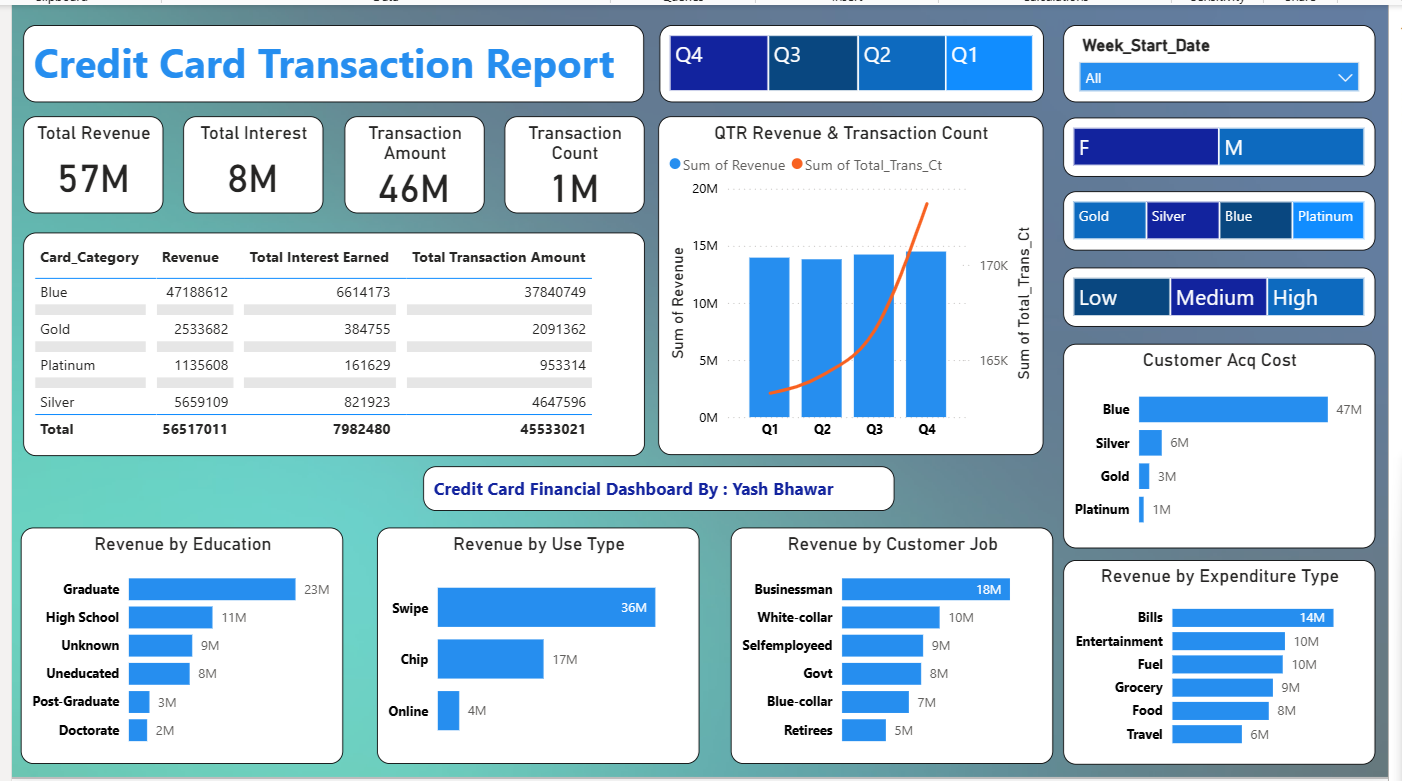

This screenshot's page, from the dashboard's own definition file:
{"tool":"powerbi","page":{"name":"CC Transaction Report","canvas":[1280,720],"ordinal":0},"visuals":[{"type":"textbox","box":[10.1,18.7,577.3,71.8],"z":0},{"type":"lineStackedColumnComboChart","title":"QTR Revenue & Transaction Count","fields":{"Category":["cc_detail.Qtr"],"Y":["Sum(cc_detail.Revenue)"],"Y2":["Sum(cc_detail.Total_Trans_Ct)"]},"box":[601.7,103.4,358.1,315],"z":1000},{"type":"barChart","title":"Revenue by Customer Job","fields":{"Y":["Sum(cc_detail.Revenue)"],"Category":["cust_detail.Customer_Job"]},"box":[668.1,486,300.2,220.3],"z":2000},{"type":"barChart","title":"Revenue by Education","fields":{"Y":["Sum(cc_detail.Revenue)"],"Category":["cust_detail.Education_Level"]},"box":[8.6,486,300.2,220.3],"z":3000},{"type":"barChart","title":"Customer Acq Cost","fields":{"Y":["Sum(cc_detail.Revenue)"],"Category":["cc_detail.Card_Category"]},"box":[978.2,315,290.4,190],"z":4000},{"type":"barChart","title":"Revenue by Use Type","fields":{"Y":["Sum(cc_detail.Revenue)"],"Category":["cc_detail.Use_Chip"]},"box":[339.6,486,300.2,220.3],"z":5000},{"type":"tableEx","fields":{"Values":["cc_detail.Card_Category","Sum(cc_detail.Revenue)","Sum(cc_detail.Interest_Earned)","Sum(cc_detail.Total_Trans_Amt)"]},"box":[10.1,211.1,578.8,208.2],"z":6000},{"type":"card","title":"Total Revenue","fields":{"Values":["Sum(cc_detail.Revenue)"]},"box":[10.1,103.4,130,90],"z":7000},{"type":"card","title":"Transaction Count","fields":{"Values":["Sum(cc_detail.Total_Trans_Ct)"]},"box":[458.1,103.4,130,90],"z":8000},{"type":"card","title":"Total Interest","fields":{"Values":["Sum(cc_detail.Interest_Earned)"]},"box":[159.4,103.4,130,90],"z":9000},{"type":"card","title":"Transaction Amount","fields":{"Values":["Sum(cc_detail.Total_Trans_Amt)"]},"box":[308.8,103.4,130,90],"z":10000},{"type":"slicer","fields":{"Values":["cc_detail.Week_Start_Date"]},"box":[978,18.7,290.1,71.8],"z":11000},{"type":"treemap","fields":{"Group":["cc_detail.Qtr"],"Values":["Avg(cc_detail.Client_Num)"]},"box":[601.8,18.7,357.6,71.8],"z":12000},{"type":"treemap","fields":{"Values":["Avg(cc_detail.Client_Num)"],"Group":["cust_detail.Gender"]},"box":[978.2,104.6,290.4,55],"z":13000},{"type":"treemap","fields":{"Values":["Avg(cc_detail.Client_Num)"],"Group":["cc_detail.Card_Category"]},"box":[978.2,173.5,290.4,55],"z":14000},{"type":"treemap","fields":{"Values":["Avg(cc_detail.Client_Num)"],"Group":["cust_detail.Income Group"]},"box":[978.2,243.6,290.4,55.4],"z":15000},{"type":"barChart","title":"Revenue by Expenditure Type","fields":{"Y":["Sum(cc_detail.Revenue)"],"Category":["cc_detail.Exp_Type"]},"box":[978.2,516.8,290.4,190],"z":16000},{"type":"textbox","box":[382.7,429.4,438,41.8],"z":17000}]}

Visuals, with their boxes in screenshot pixels (x1, y1, x2, y2):
textbox: 22,24,640,101
"QTR Revenue & Transaction Count" lineStackedColumnComboChart: 655,114,1038,451
"Revenue by Customer Job" barChart: 726,524,1047,760
"Revenue by Education" barChart: 20,524,341,760
"Customer Acq Cost" barChart: 1058,341,1369,544
"Revenue by Use Type" barChart: 374,524,696,760
tableEx - cc_detail.Card_Category x Sum(cc_detail.Revenue): 22,230,641,452
"Total Revenue" card: 22,114,161,211
"Transaction Count" card: 501,114,640,211
"Total Interest" card: 182,114,321,211
"Transaction Amount" card: 341,114,481,211
slicer - cc_detail.Week_Start_Date: 1058,24,1368,101
treemap - cc_detail.Qtr x Avg(cc_detail.Client_Num): 655,24,1038,101
treemap - Avg(cc_detail.Client_Num) x cust_detail.Gender: 1058,116,1369,174
treemap - Avg(cc_detail.Client_Num) x cc_detail.Card_Category: 1058,189,1369,248
treemap - Avg(cc_detail.Client_Num) x cust_detail.Income Group: 1058,264,1369,324
"Revenue by Expenditure Type" barChart: 1058,557,1369,760
textbox: 421,463,889,508
